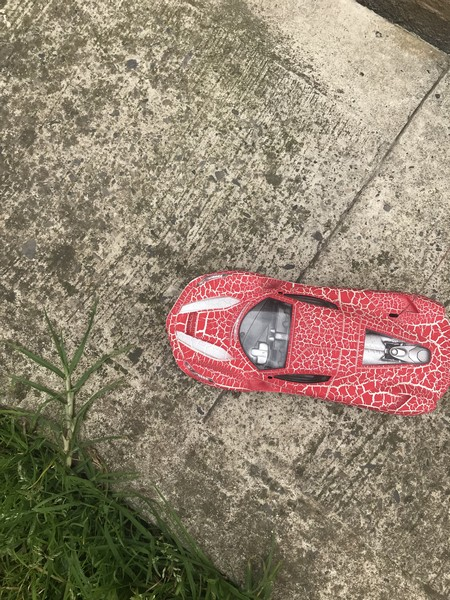RC: (168, 276, 450, 415)
